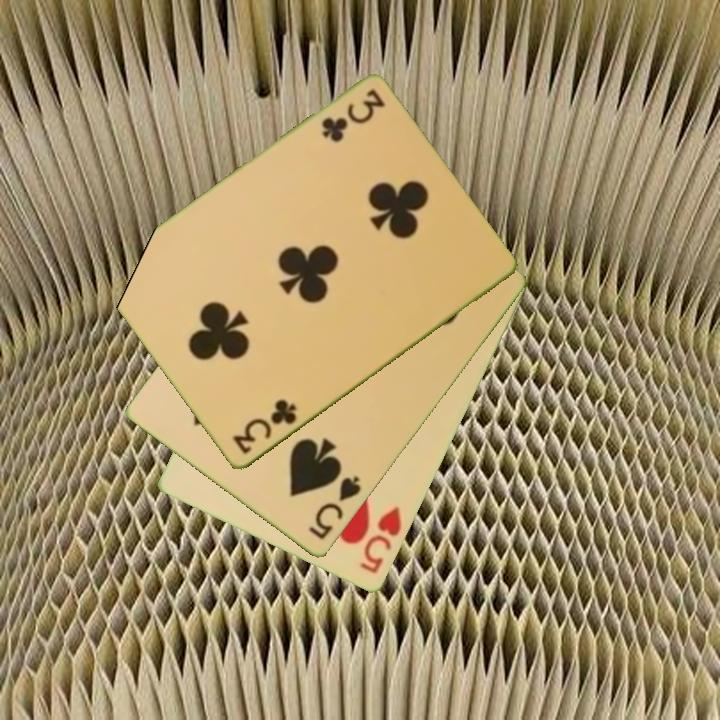3c: (229, 396, 300, 458), (317, 85, 388, 145)
5h: (357, 503, 405, 577)
5s: (305, 473, 365, 544)
